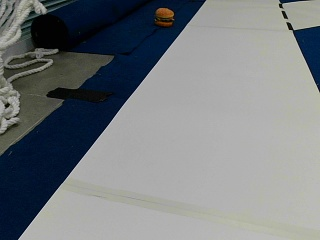burger: (154, 6, 174, 26)
